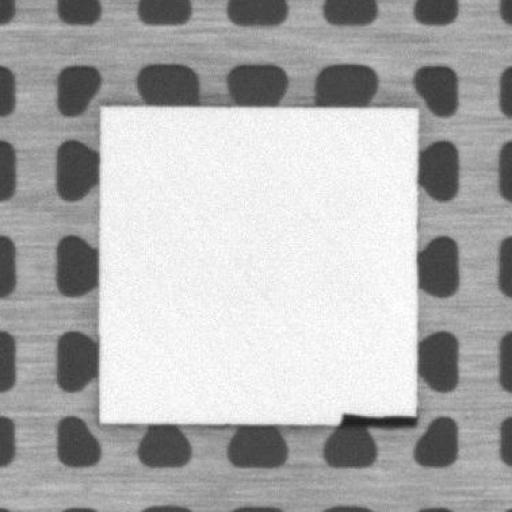DIE_BROKEN: (329, 409, 420, 430)
